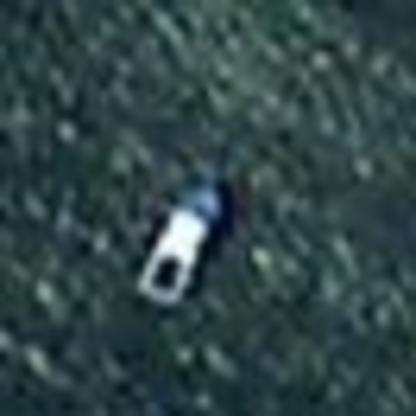ship: (124, 168, 234, 315)
